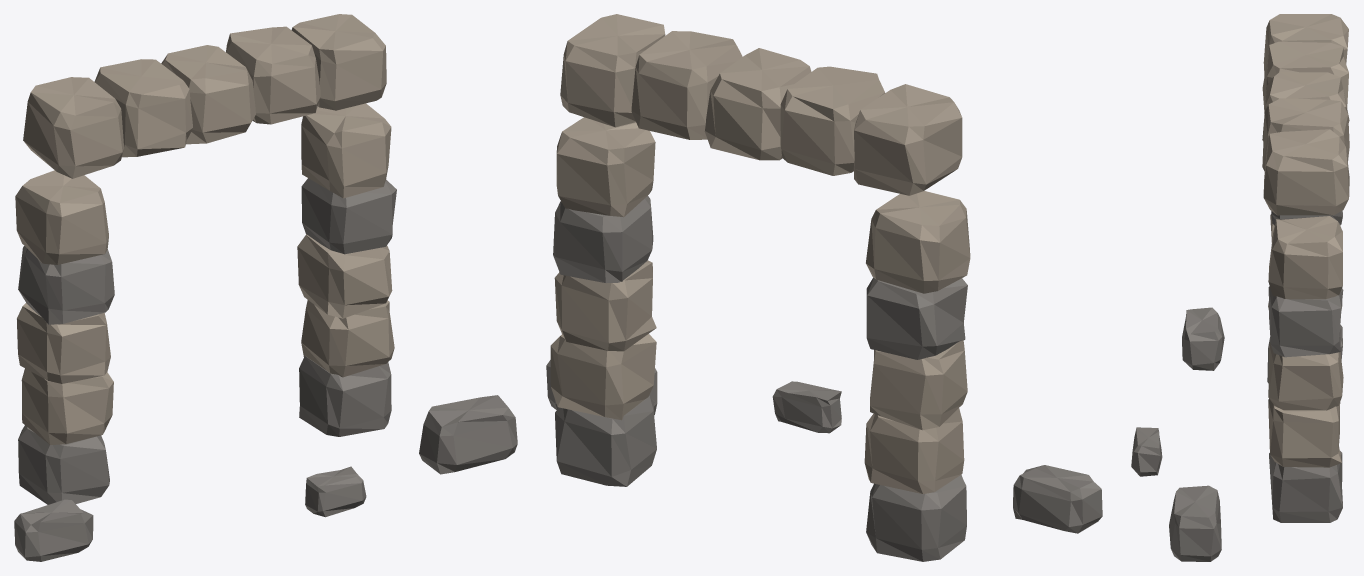
The model's file is ruins-v1.glb.
3 renders of one model, left to right at view 1: azimuth 30°, elevation 25°; view 2: azimuth 150°, elevation 25°; view 3: azimuth 270°, elevation 25°, orthographic. The views are drawn at different scales.
Visible parts, largest first — view 1: ruins-v1; view 2: ruins-v1; view 3: ruins-v1.
Boxes of the visible parts, left/top/right/bottom form: ruins-v1: left=14, top=14, right=517, bottom=561; ruins-v1: left=546, top=14, right=1102, bottom=561; ruins-v1: left=1131, top=14, right=1349, bottom=561.
Size of the model in its own units: 6.58 by 5.22 by 2.77.
